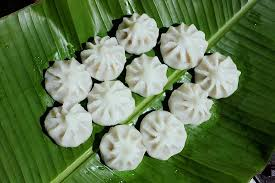modak: (40, 100, 98, 148), (138, 107, 192, 156), (70, 35, 130, 79), (166, 83, 220, 130), (44, 53, 90, 103), (198, 49, 240, 100), (127, 55, 173, 99), (101, 128, 149, 170), (85, 80, 134, 121), (161, 25, 203, 70), (117, 15, 162, 52)
